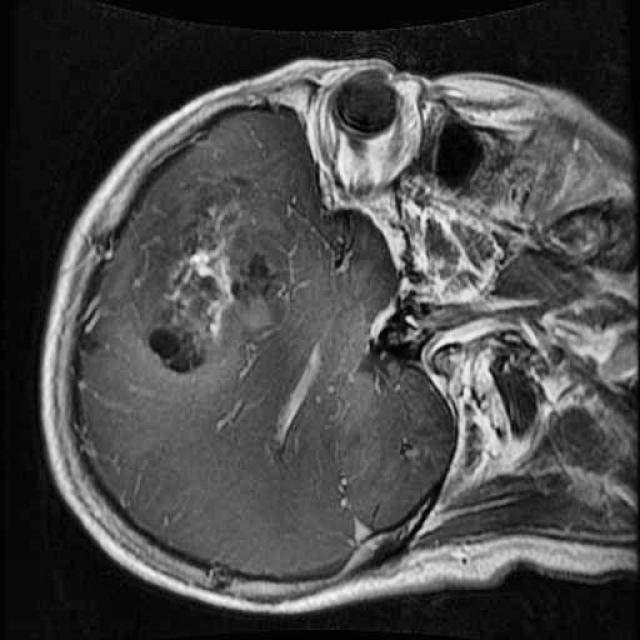Non-Tumor: (124, 150, 300, 394)
